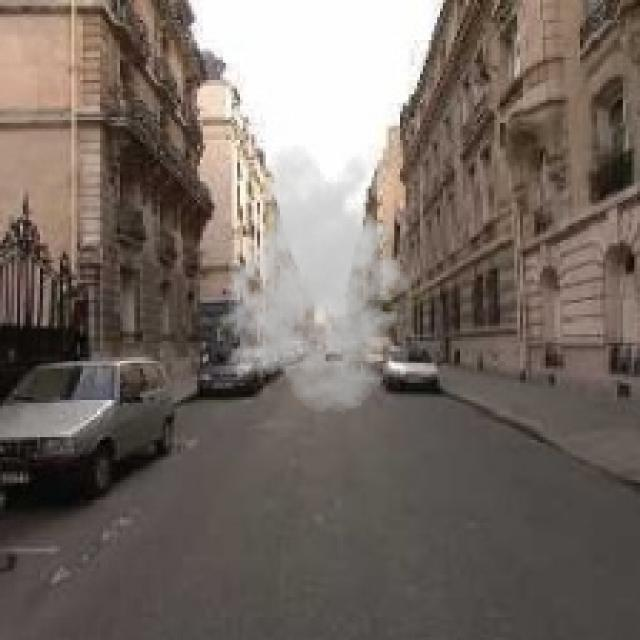Smoke: (214, 143, 426, 414)
